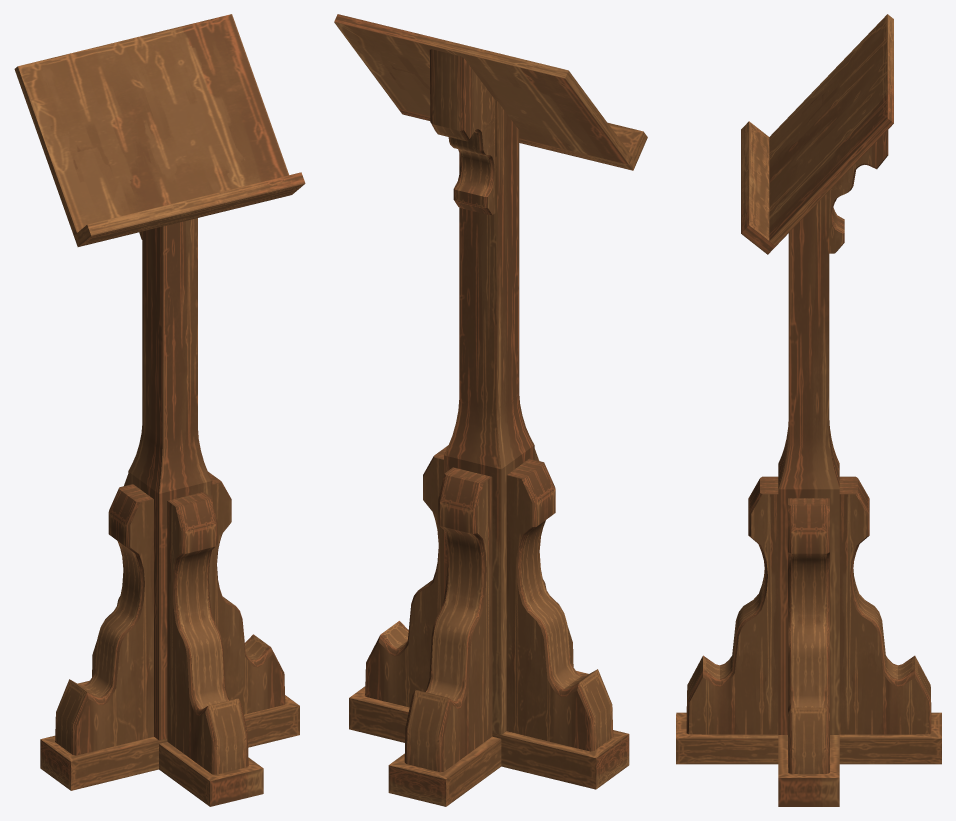
File: bookstand.glb
The picture shows the model from 3 angles, left to right: view 1: azimuth 30°, elevation 25°; view 2: azimuth 150°, elevation 25°; view 3: azimuth 270°, elevation 25°; orthographic projection. The views are drawn at different scales.
Visible parts, largest first — view 1: BookStand; view 2: BookStand; view 3: BookStand.
Part boxes in pixels (x1,y1,x2,y2): BookStand: (14,14,305,806); BookStand: (334,14,647,806); BookStand: (676,14,941,806).
Bounding box in the file's own units: 0.5071 × 1.45 × 0.5112.
1 material, 1 textured.
